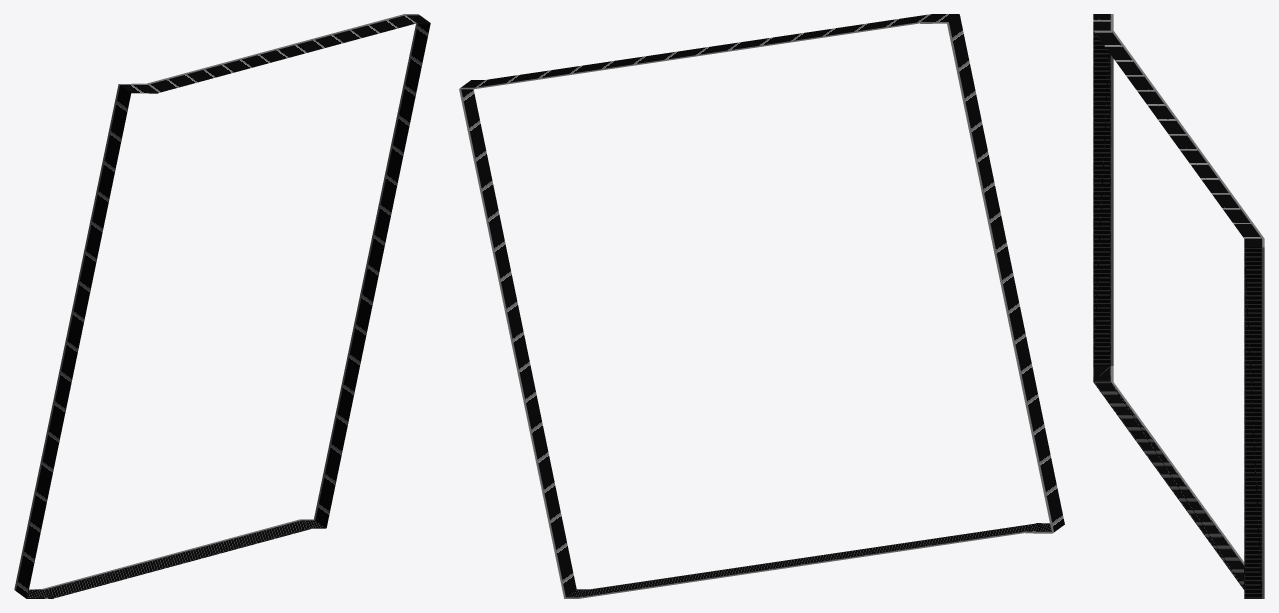
File: _0TRIBUENE_02_002_SUB0_Scene.123.obj
The picture shows the model from 3 angles, left to right: view 1: azimuth 30°, elevation 25°; view 2: azimuth 150°, elevation 25°; view 3: azimuth 270°, elevation 25°; orthographic projection. The views are drawn at different scales.
Visible parts, largest first — view 1: _0TRIBUENE_02_002_SUB0_Scene.123; view 2: _0TRIBUENE_02_002_SUB0_Scene.123; view 3: _0TRIBUENE_02_002_SUB0_Scene.123.
Boxes of the visible parts, left/top/right/bottom form: _0TRIBUENE_02_002_SUB0_Scene.123: left=14, top=14, right=430, bottom=598; _0TRIBUENE_02_002_SUB0_Scene.123: left=459, top=14, right=1064, bottom=598; _0TRIBUENE_02_002_SUB0_Scene.123: left=1093, top=14, right=1264, bottom=598.
Bounding box in the file's own units: 34.87 × 38.48 × 12.72.
